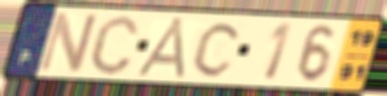1: (261, 20, 295, 83)
6: (295, 23, 338, 85)
A: (133, 16, 190, 80)
C: (87, 13, 141, 77), (190, 19, 245, 79)
N: (35, 9, 101, 74)
